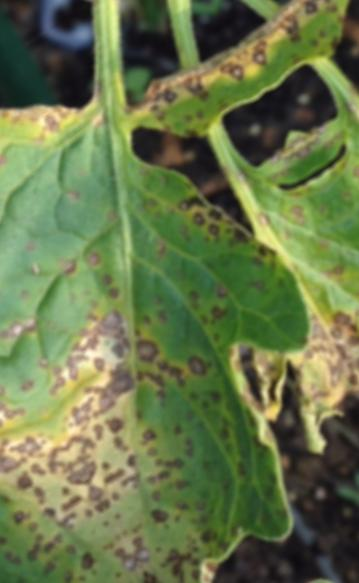Tomato Septoria leaf spot: (0, 0, 359, 583), (107, 118, 359, 536)
